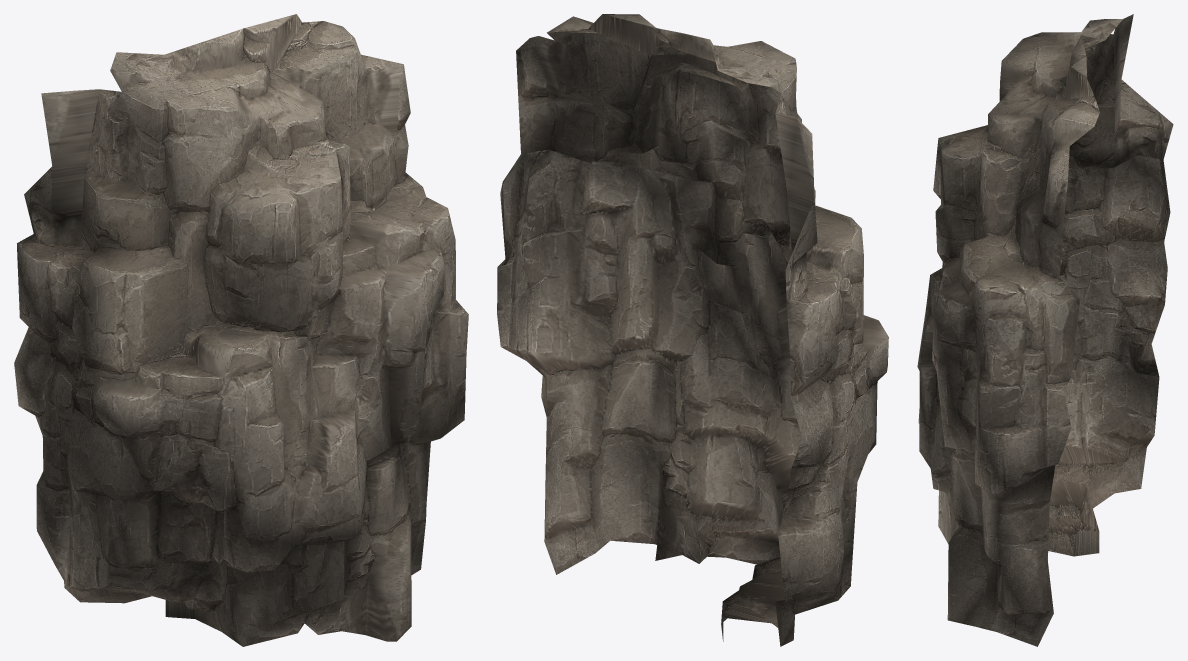
File: HugeRock_01_2.FBX
The picture shows the model from 3 angles, left to right: view 1: azimuth 30°, elevation 25°; view 2: azimuth 150°, elevation 25°; view 3: azimuth 270°, elevation 25°; orthographic projection. The views are drawn at different scales.
Visible parts, largest first — view 1: HugeRock_01_high; view 2: HugeRock_01_high; view 3: HugeRock_01_high.
Boxes of the visible parts, x1=… form: HugeRock_01_high: x1=14, y1=14, x2=468, y2=646; HugeRock_01_high: x1=497, y1=14, x2=888, y2=646; HugeRock_01_high: x1=917, y1=14, x2=1173, y2=646.
Size of the model in its own units: 11.45 by 17.38 by 7.52.
